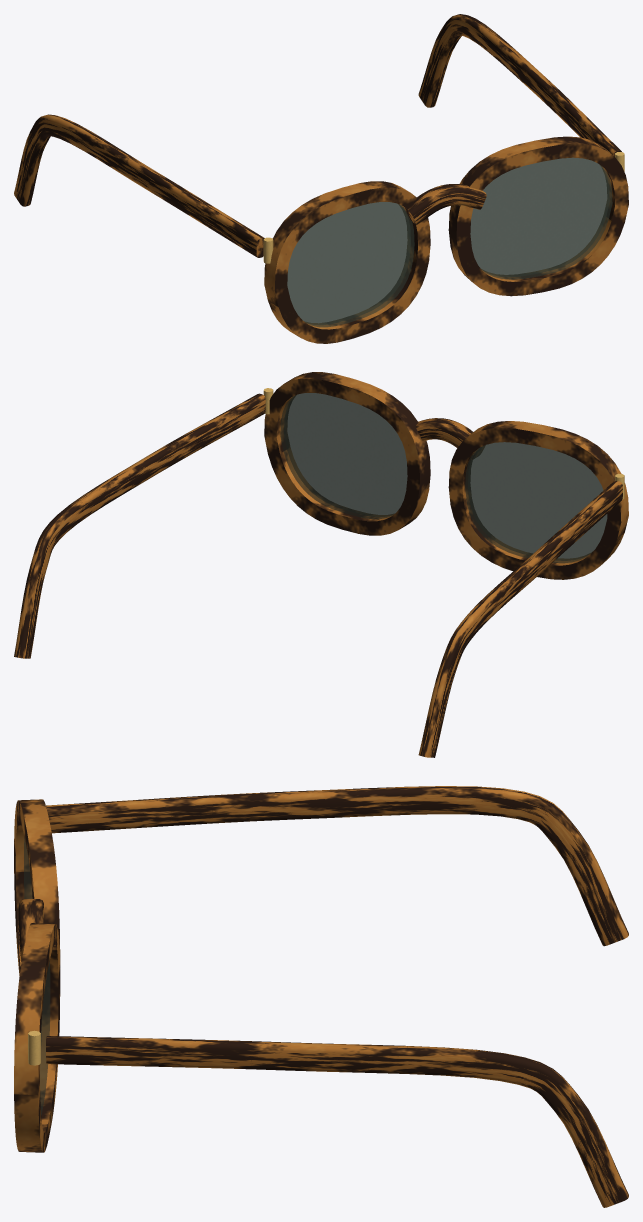
File: sunglasses.glb
3 views of the same model, one above another, from view 1: azimuth 30°, elevation 25°; view 2: azimuth 150°, elevation 25°; view 3: azimuth 270°, elevation 25° (orthographic). The views are drawn at different scales.
Visible parts, largest first — view 1: Lenses, Frame front, Temples and hinges; view 2: Lenses, Frame front, Temples and hinges; view 3: Temples and hinges, Frame front, Lenses.
Boxes of the visible parts, left/top/right/bottom form: Lenses: left=287, top=157, right=612, bottom=327; Frame front: left=264, top=136, right=628, bottom=343; Temples and hinges: left=14, top=14, right=624, bottom=263; Lenses: left=280, top=393, right=607, bottom=563; Frame front: left=264, top=372, right=628, bottom=579; Temples and hinges: left=14, top=388, right=624, bottom=757; Temples and hinges: left=28, top=786, right=628, bottom=1207; Frame front: left=14, top=799, right=60, bottom=1152; Lenses: left=24, top=838, right=50, bottom=1115.
Size of the model in its own units: 0.1584 by 0.0524 by 0.1513.
Materials: 3 (3 with a texture image).
